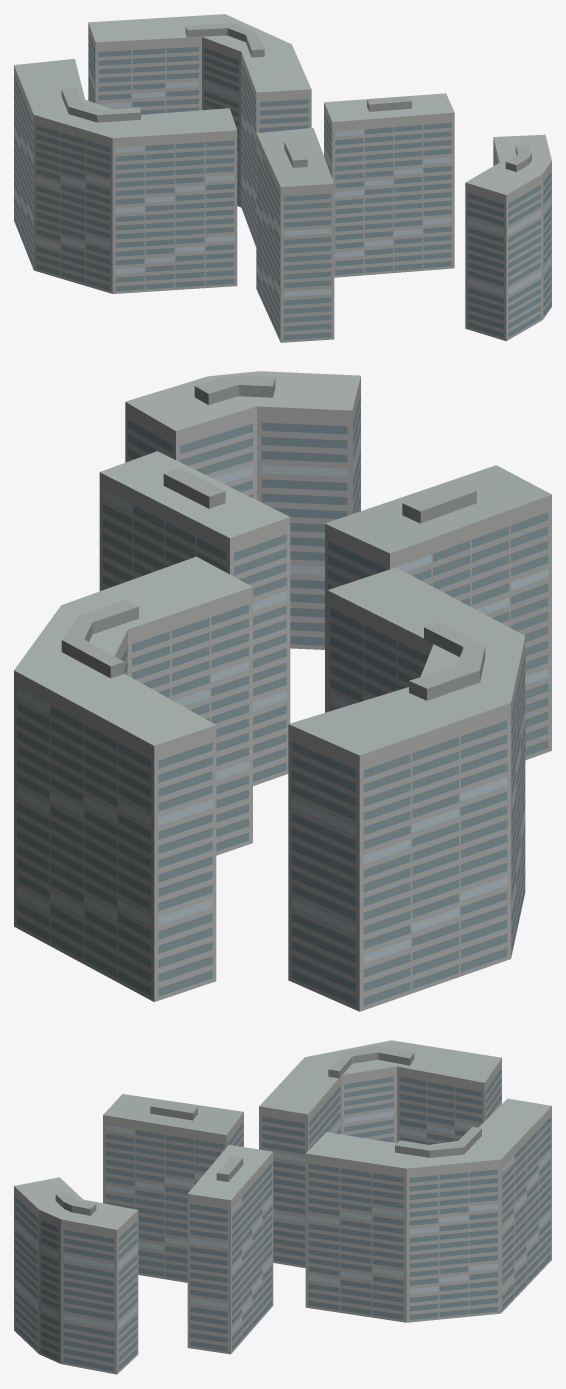
File: apt-a15886504.glb
3 views of the same model, one above another, from view 1: azimuth 30°, elevation 25°; view 2: azimuth 150°, elevation 25°; view 3: azimuth 270°, elevation 25° (orthographic). The views are drawn at different scales.
Visible parts, largest first — view 1: apt-a15886504; view 2: apt-a15886504; view 3: apt-a15886504.
Boxes of the visible parts, x1,y1,x2,y2 form: apt-a15886504: [14, 14, 551, 342]; apt-a15886504: [14, 371, 551, 1011]; apt-a15886504: [14, 1040, 551, 1374].
Bounding box in the file's own units: 117 × 49 × 148.
